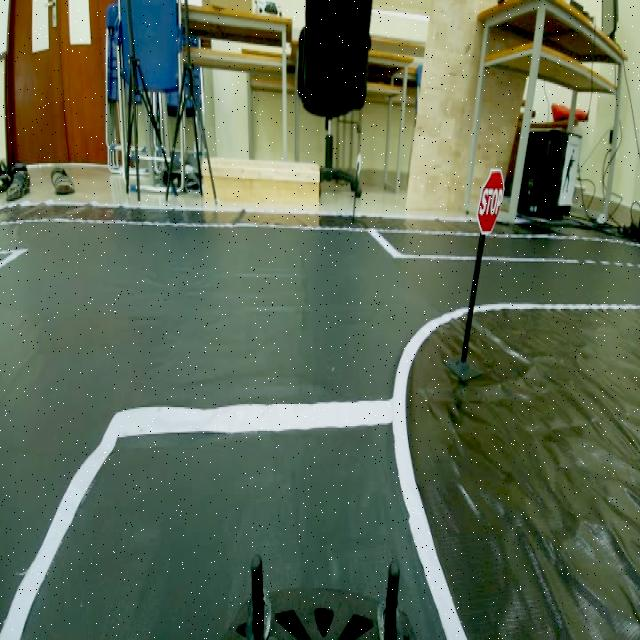stop: (473, 159, 508, 242)
